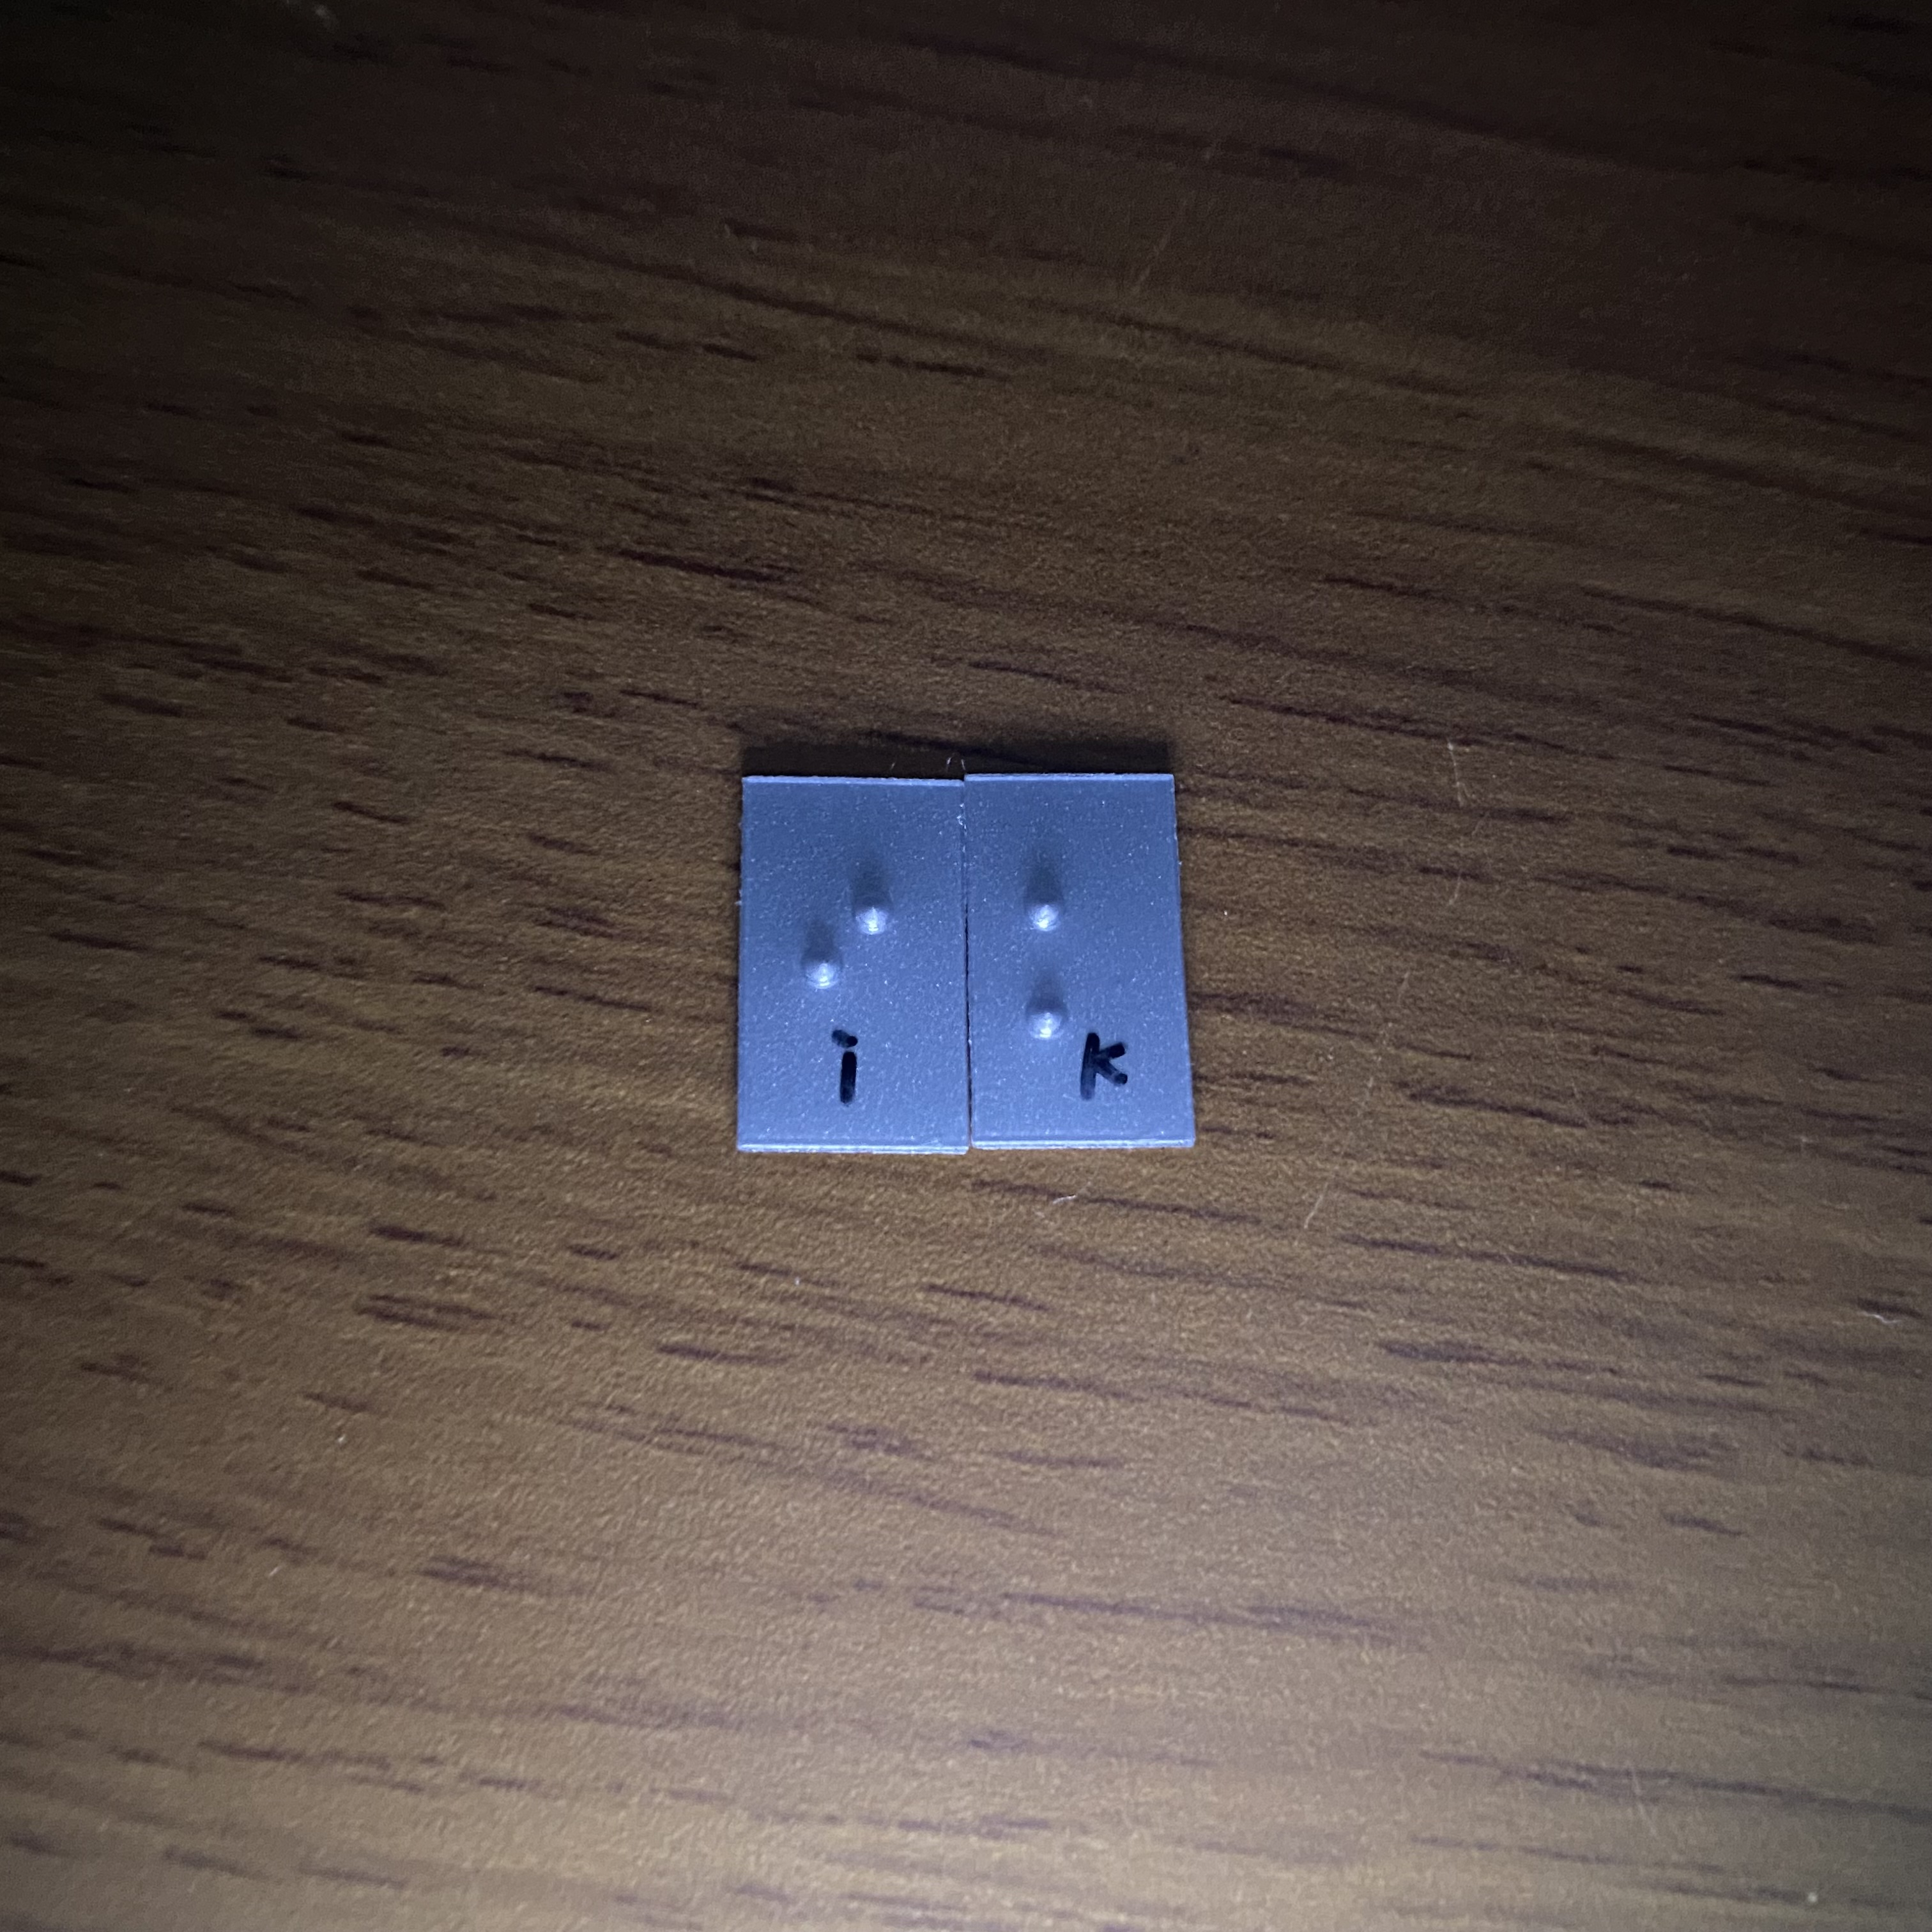i: (783, 846, 915, 1053)
k: (1000, 852, 1146, 1044)
